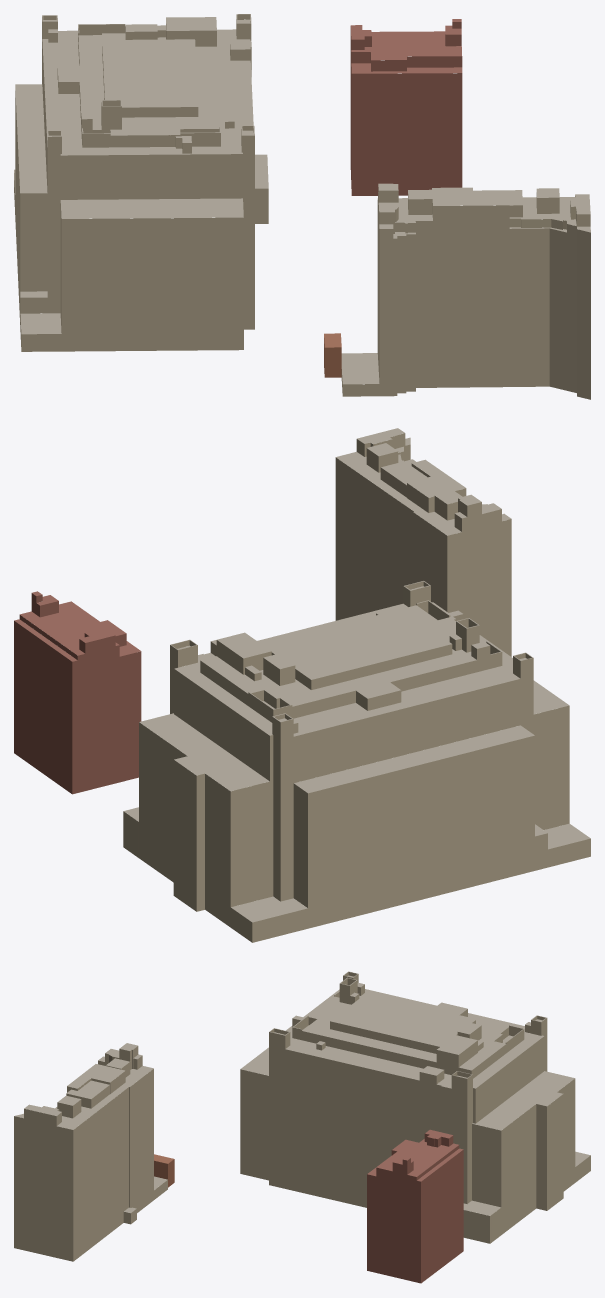
Rendered from tile--1_-13.glb.
3 renders of one model, top to bottom at view 1: azimuth 30°, elevation 25°; view 2: azimuth 150°, elevation 25°; view 3: azimuth 270°, elevation 25°, orthographic. The views are drawn at different scales.
Visible parts, largest first — view 1: wall, roof; view 2: wall, roof; view 3: wall, roof.
Boxes of the visible parts, box(x1,y1,x2,y2) form: wall: box(14, 14, 590, 399); roof: box(14, 14, 590, 384); wall: box(14, 433, 590, 942); roof: box(14, 428, 590, 922); wall: box(14, 972, 590, 1283); roof: box(14, 971, 590, 1215).
Size of the model in its own units: 208 by 84.45 by 264.
